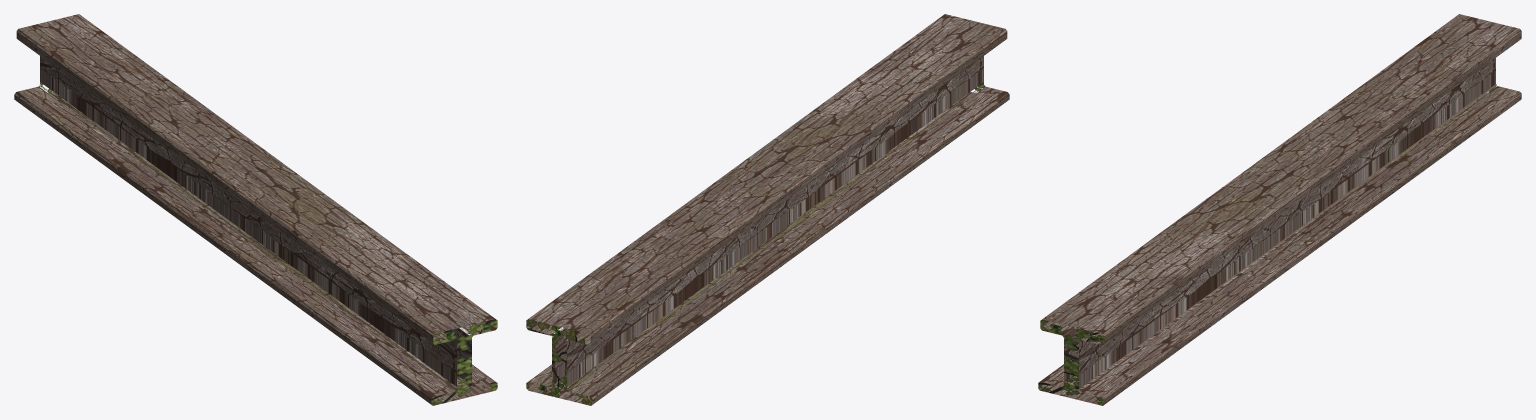
The model's file is balk_mini.FBX.
3 views of the same model, side by side, from view 1: azimuth 30°, elevation 25°; view 2: azimuth 150°, elevation 25°; view 3: azimuth 330°, elevation 25° (orthographic).
Parts seen in each view (by area): view 1: balk_mini; view 2: balk_mini; view 3: balk_mini.
Boxes of the visible parts, left/top/right/bottom form: balk_mini: left=14, top=14, right=497, bottom=405; balk_mini: left=526, top=14, right=1009, bottom=405; balk_mini: left=1038, top=14, right=1521, bottom=405.
Bounding box in the file's own units: 1.19 × 12.97 × 1.23.
